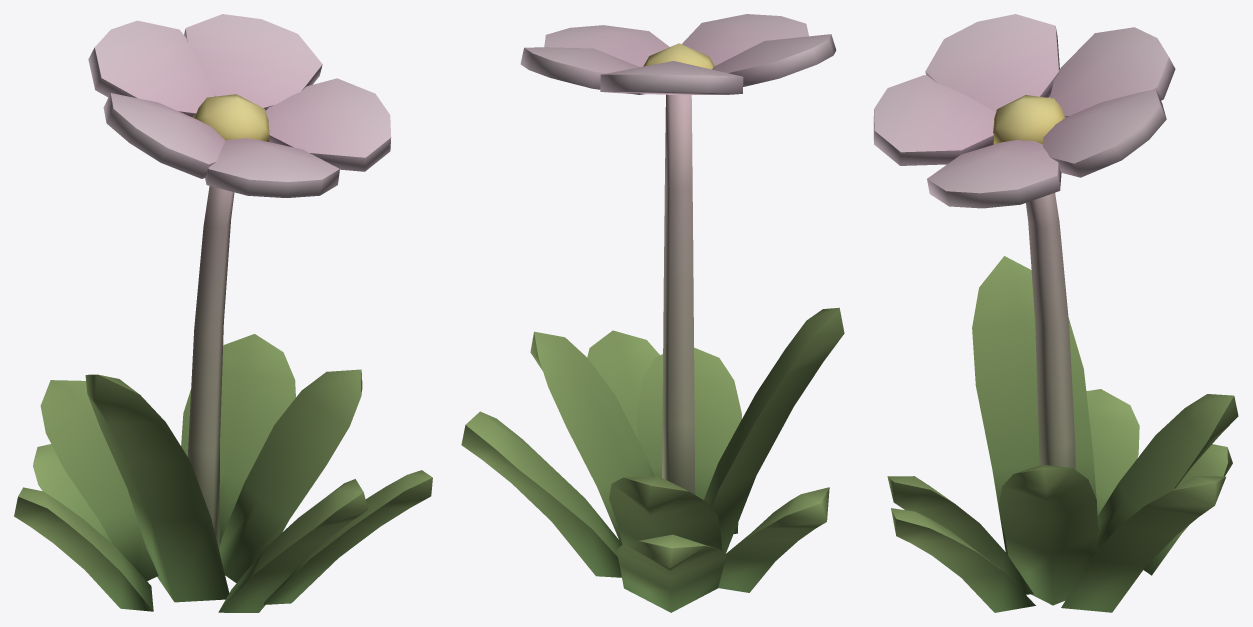
Rendered from flowers_big_a.glb.
The picture shows the model from 3 angles, left to right: view 1: azimuth 30°, elevation 25°; view 2: azimuth 150°, elevation 25°; view 3: azimuth 270°, elevation 25°; orthographic projection. The views are drawn at different scales.
Parts seen in each view (by area): view 1: Flowers_Big_A.001; view 2: Flowers_Big_A.001; view 3: Flowers_Big_A.001.
Boxes of the visible parts, x1,y1,x2,y2 form: Flowers_Big_A.001: (14,14,432,612); Flowers_Big_A.001: (461,14,844,612); Flowers_Big_A.001: (873,14,1238,612).
Size of the model in its own units: 0.3406 by 0.5448 by 0.3405.
